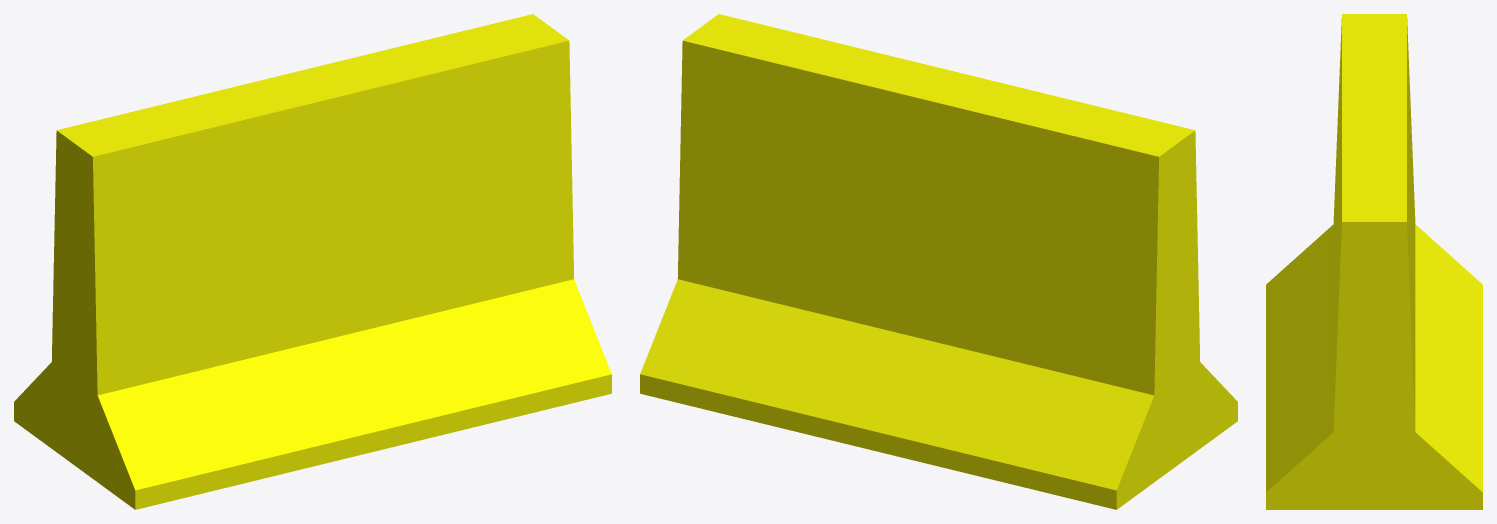
Rendered from SM_Rambarde_beton.fbx.
The picture shows the model from 3 angles, left to right: view 1: azimuth 30°, elevation 25°; view 2: azimuth 150°, elevation 25°; view 3: azimuth 270°, elevation 25°; orthographic projection. The views are drawn at different scales.
Visible parts, largest first — view 1: SM_Rambarde_beton; view 2: SM_Rambarde_beton; view 3: SM_Rambarde_beton.
Part boxes in pixels (bbox=[...]): SM_Rambarde_beton: bbox=[14, 14, 611, 509]; SM_Rambarde_beton: bbox=[640, 14, 1237, 509]; SM_Rambarde_beton: bbox=[1266, 14, 1482, 509].
Size of the model in its own units: 1 by 0.6457 by 0.4407.
